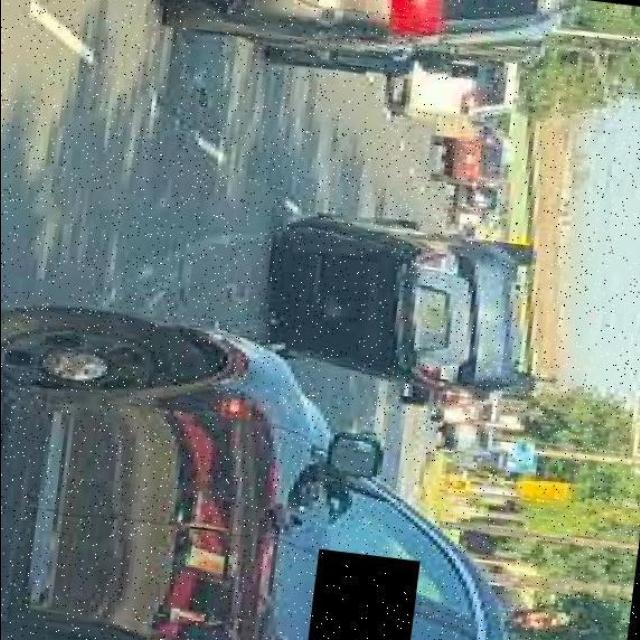accident: (250, 199, 558, 405)
